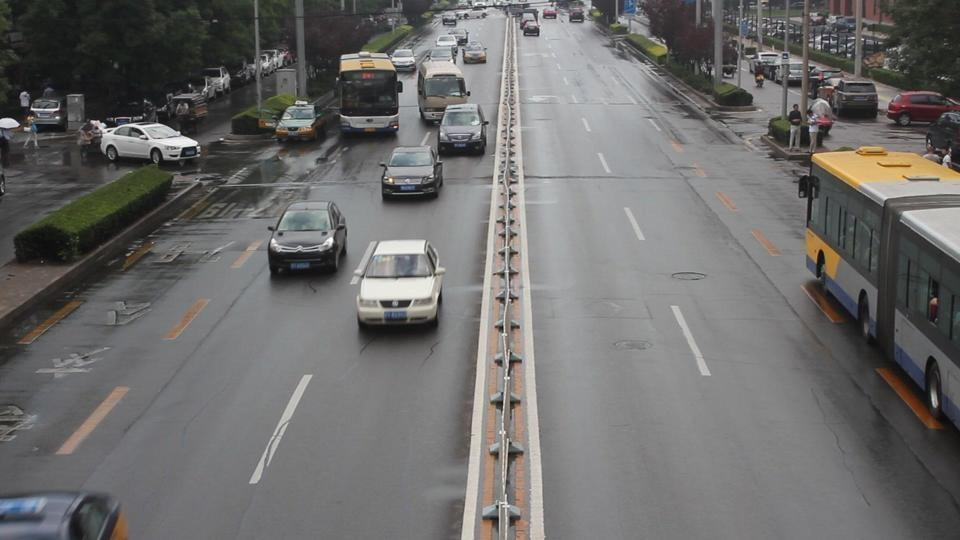car: (351, 238, 447, 329), (266, 200, 349, 276), (1, 490, 131, 538), (100, 123, 201, 165), (380, 145, 445, 199), (416, 60, 470, 124), (438, 102, 489, 157), (886, 91, 960, 125), (30, 95, 86, 131), (273, 104, 324, 142), (832, 79, 879, 119), (924, 112, 960, 159), (782, 61, 817, 85), (815, 70, 845, 97), (389, 47, 418, 74), (461, 42, 488, 64), (521, 12, 541, 36), (440, 12, 459, 26), (570, 10, 585, 23)
